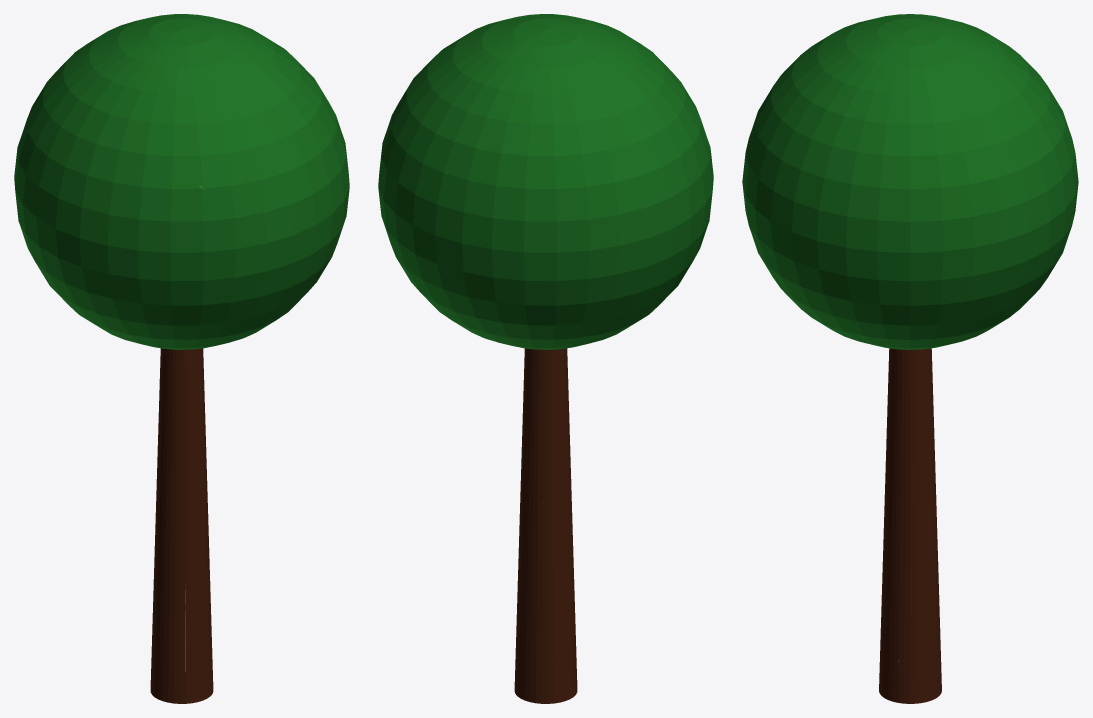
The model's file is Tree.obj.
The picture shows the model from 3 angles, left to right: view 1: azimuth 30°, elevation 25°; view 2: azimuth 150°, elevation 25°; view 3: azimuth 270°, elevation 25°; orthographic projection.
Visible parts, largest first — view 1: Sphere, Cylinder; view 2: Sphere, Cylinder; view 3: Sphere, Cylinder.
Boxes of the visible parts, bbox=[...] form: Sphere: bbox=[14, 14, 349, 349]; Cylinder: bbox=[150, 348, 213, 703]; Sphere: bbox=[378, 14, 713, 349]; Cylinder: bbox=[514, 348, 577, 703]; Sphere: bbox=[742, 14, 1078, 349]; Cylinder: bbox=[879, 348, 941, 703].
Size of the model in its own units: 8 by 17.35 by 8.
